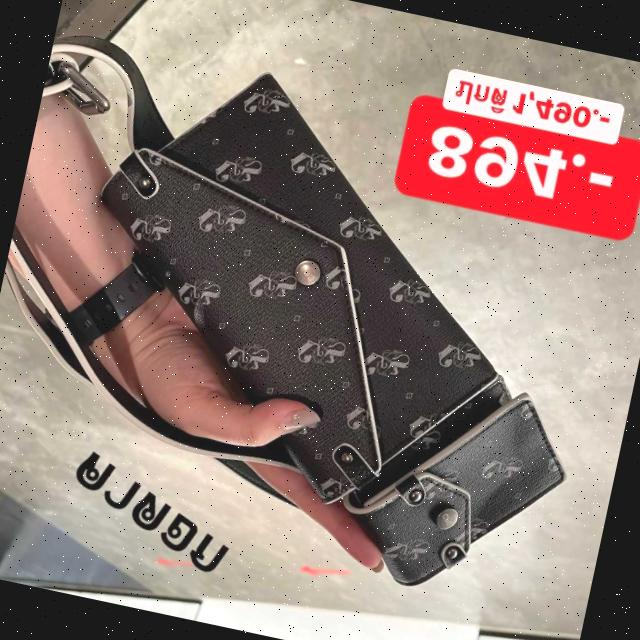handbag: (0, 30, 625, 611)
